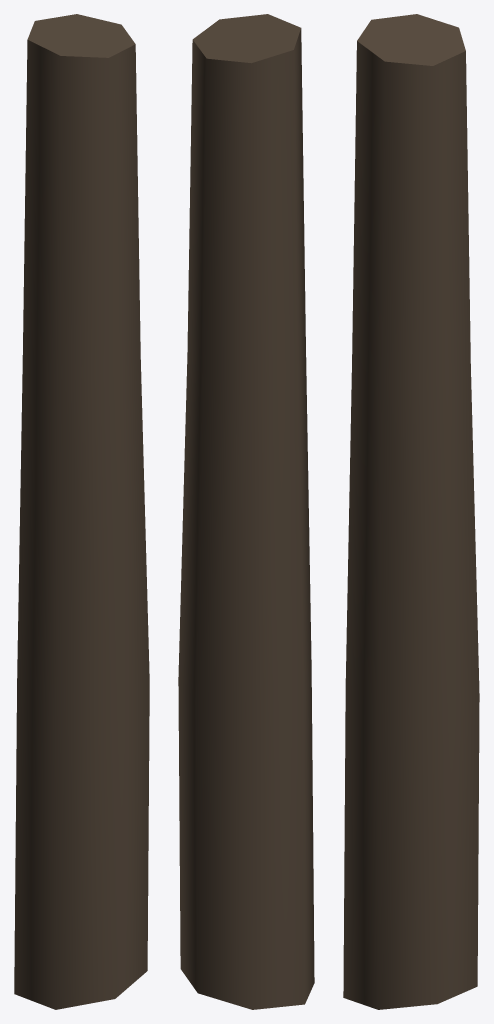
File: pier-pile-2.glb
The picture shows the model from 3 angles, left to right: view 1: azimuth 30°, elevation 25°; view 2: azimuth 210°, elevation 25°; view 3: azimuth 330°, elevation 25°; orthographic projection.
Parts seen in each view (by area): view 1: pier-pile-2; view 2: pier-pile-2; view 3: pier-pile-2.
Part boxes in pixels (x1,y1,x2,y2): pier-pile-2: (14,14,149,1009); pier-pile-2: (178,14,314,1009); pier-pile-2: (343,14,479,1009).
Size of the model in its own units: 0.3836 by 2.97 by 0.37.
